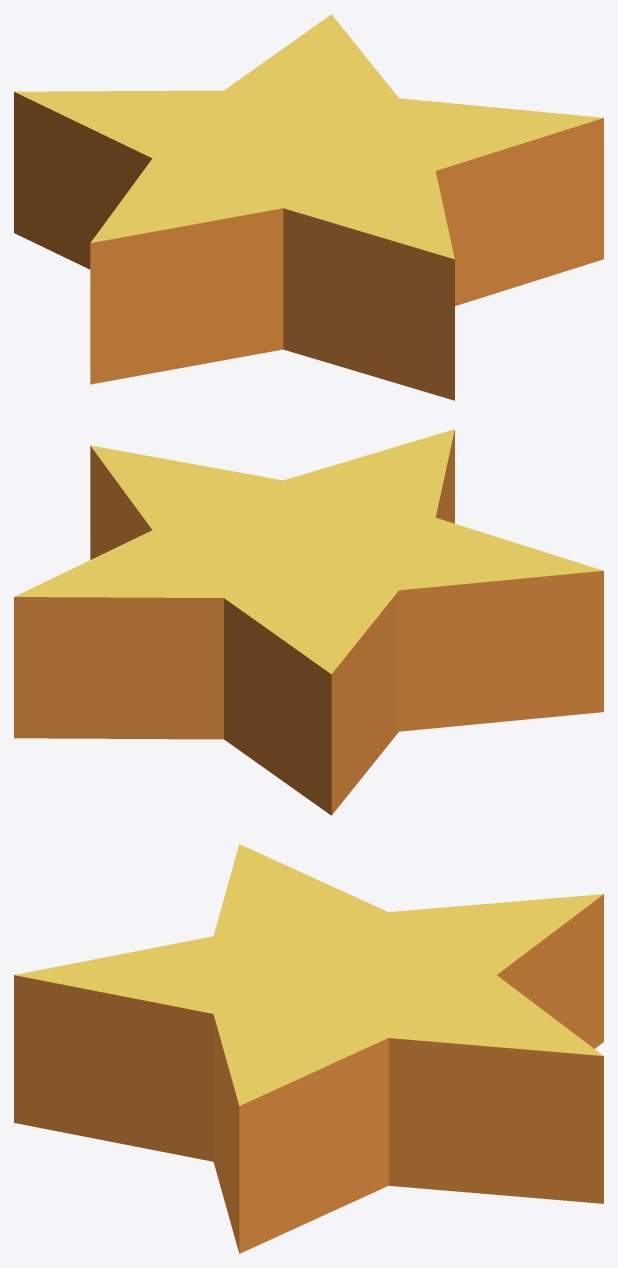
File: Bullet_Star.obj
3 views of the same model, one above another, from view 1: azimuth 30°, elevation 25°; view 2: azimuth 150°, elevation 25°; view 3: azimuth 270°, elevation 25° (orthographic). The views are drawn at different scales.
Visible parts, largest first — view 1: Bullet_Star; view 2: Bullet_Star; view 3: Bullet_Star.
Boxes of the visible parts, x1,y1,x2,y2 form: Bullet_Star: [14, 14, 603, 400]; Bullet_Star: [14, 429, 603, 815]; Bullet_Star: [14, 844, 603, 1253].
Bounding box in the file's own units: 0.3043 × 0.08 × 0.2894.
Materials: 1 (1 with a texture image).
